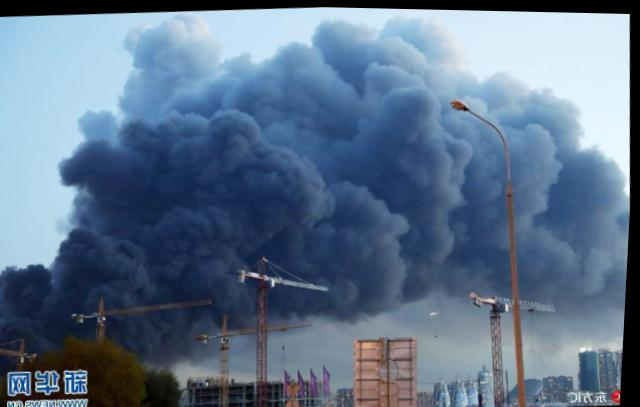smoke: (290, 41, 447, 274), (69, 136, 233, 277), (222, 52, 302, 254), (520, 166, 629, 298), (435, 137, 506, 284), (132, 29, 208, 140), (0, 276, 72, 334), (514, 105, 576, 155), (144, 312, 192, 352), (118, 274, 155, 305)
